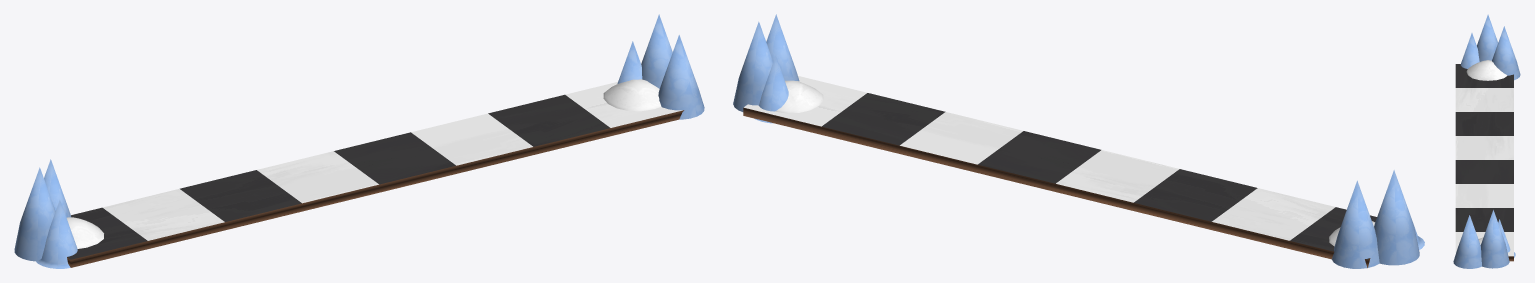
Rendered from Winter Finish line.fbx.
The picture shows the model from 3 angles, left to right: view 1: azimuth 30°, elevation 25°; view 2: azimuth 150°, elevation 25°; view 3: azimuth 270°, elevation 25°; orthographic projection. The views are drawn at different scales.
Visible parts, largest first — view 1: pCube48; view 2: pCube48; view 3: pCube48.
Part boxes in pixels (x1,y1,x2,y2): pCube48: (14,14,704,268); pCube48: (733,14,1424,268); pCube48: (1453,14,1520,268).
Bounding box in the file's own units: 65.23 × 7.82 × 8.88.
